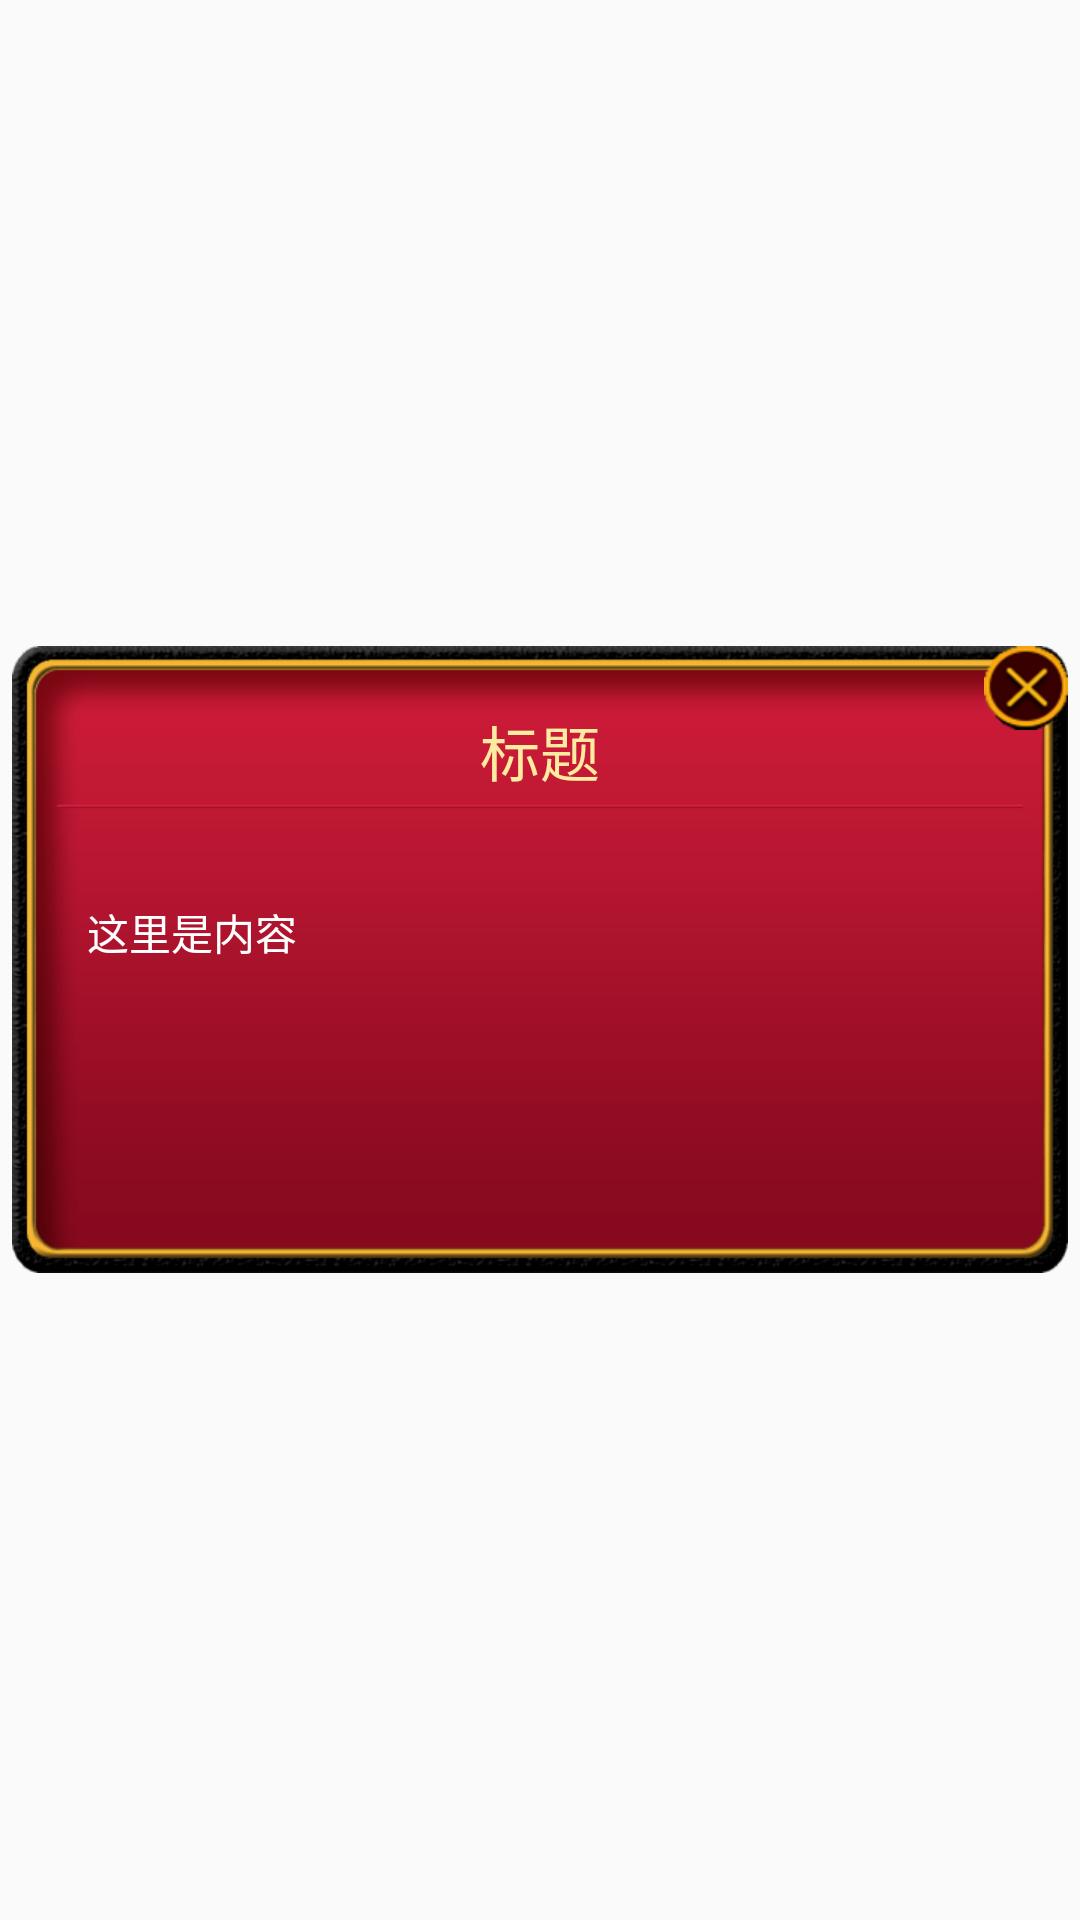

Icon click points for this 1080 x 1920 phone screenshot, format [x,y]:
pop close: [1026,688]
